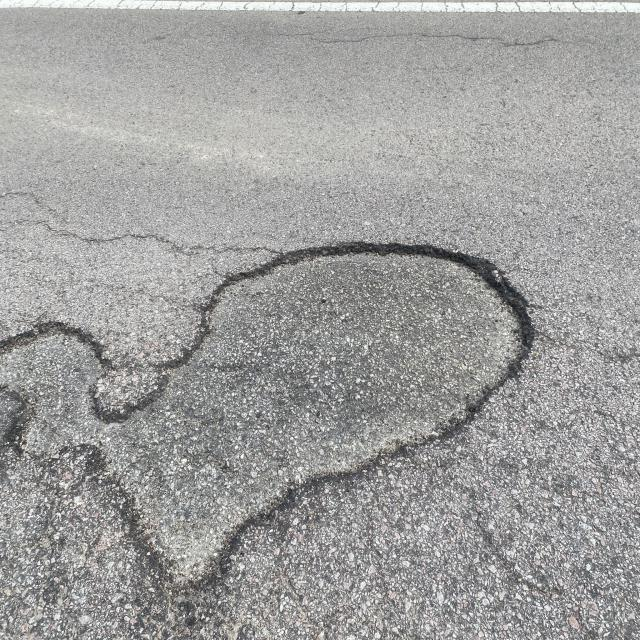Pothole: (22, 203, 564, 558)
